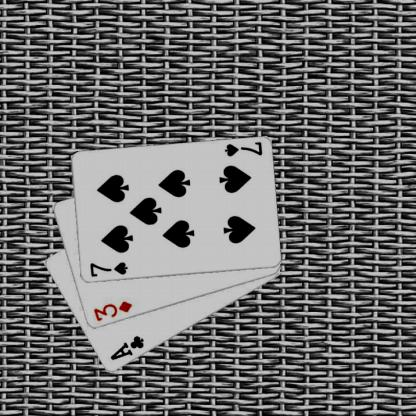3D: (91, 299, 133, 323)
7S: (87, 260, 129, 278), (222, 140, 263, 158)
AC: (107, 333, 146, 362)
